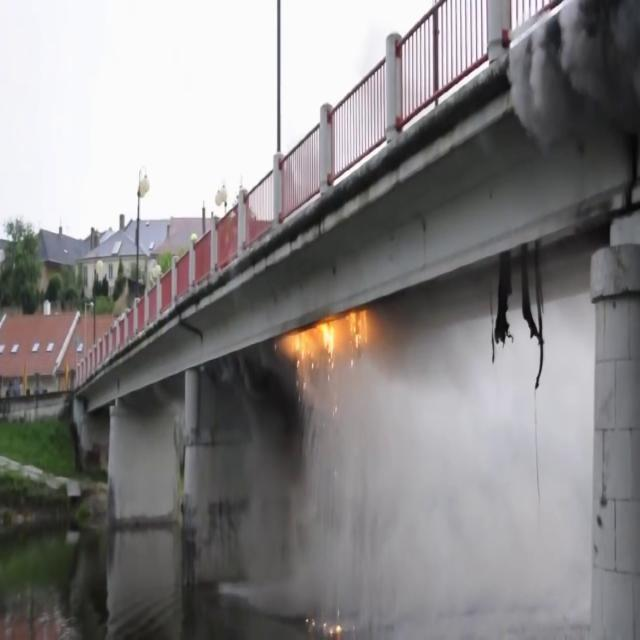Fire: (281, 299, 375, 373)
